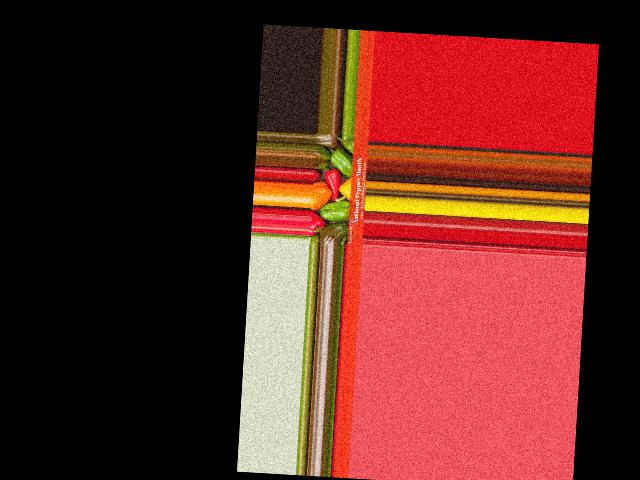bell_pepper: (319, 222, 349, 245)
